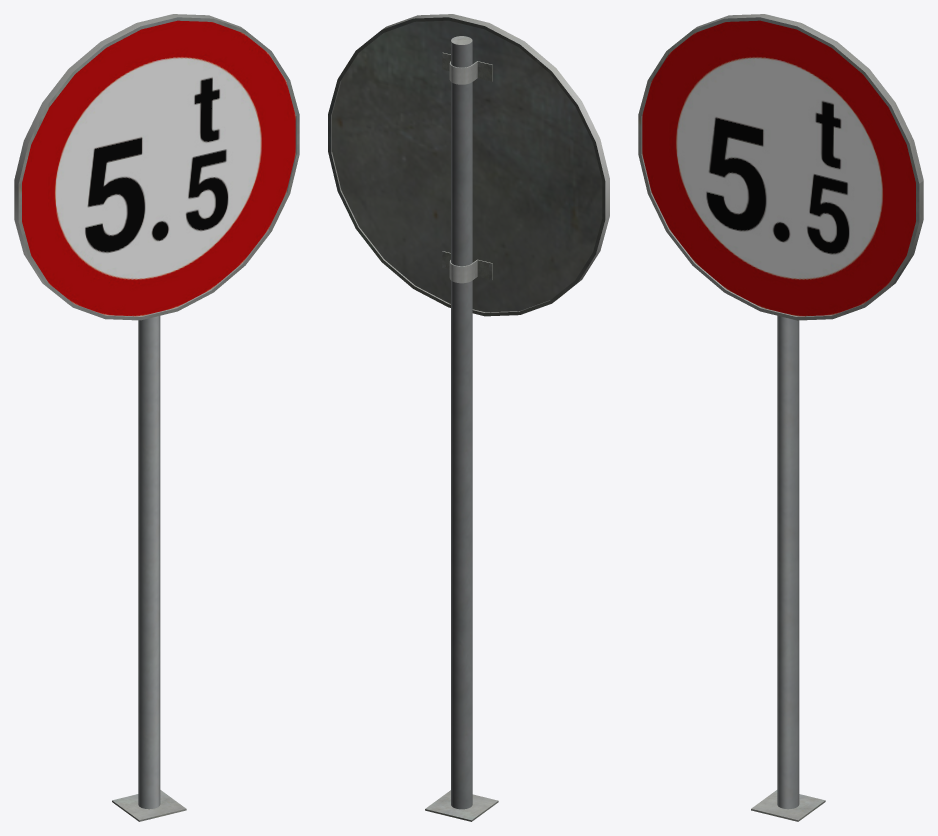
3 views of the same model, side by side, from view 1: azimuth 30°, elevation 25°; view 2: azimuth 150°, elevation 25°; view 3: azimuth 330°, elevation 25° (orthographic).
Visible parts, largest first — view 1: MainBuilding; view 2: MainBuilding; view 3: MainBuilding.
Part boxes in pixels (x1,y1,x2,y2): MainBuilding: (14, 14, 299, 821); MainBuilding: (328, 14, 609, 821); MainBuilding: (638, 14, 923, 821).
Size of the model in its own units: 0.8923 by 2.4 by 0.15.
1 material, 1 textured.
